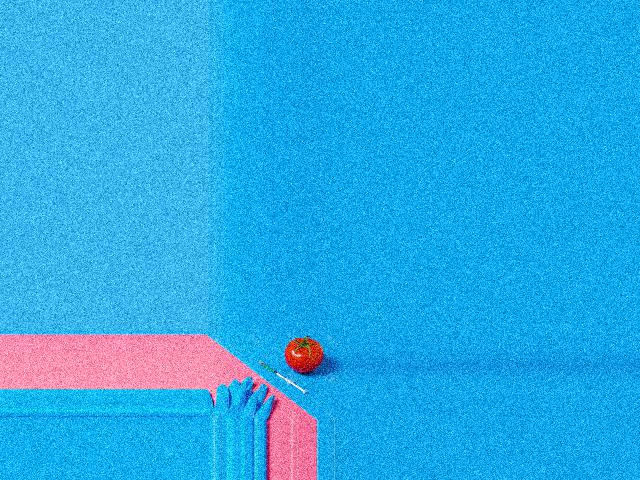tomato: (284, 338, 322, 373)
